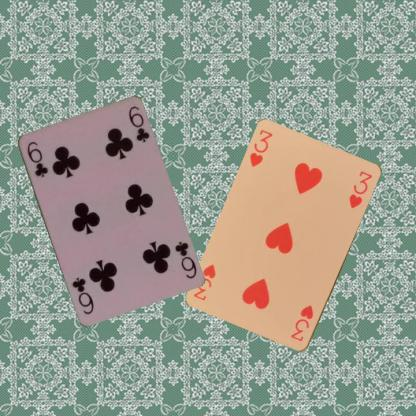3h: (247, 127, 274, 169), (288, 302, 315, 343)
6c: (172, 238, 198, 280), (24, 138, 49, 180)
